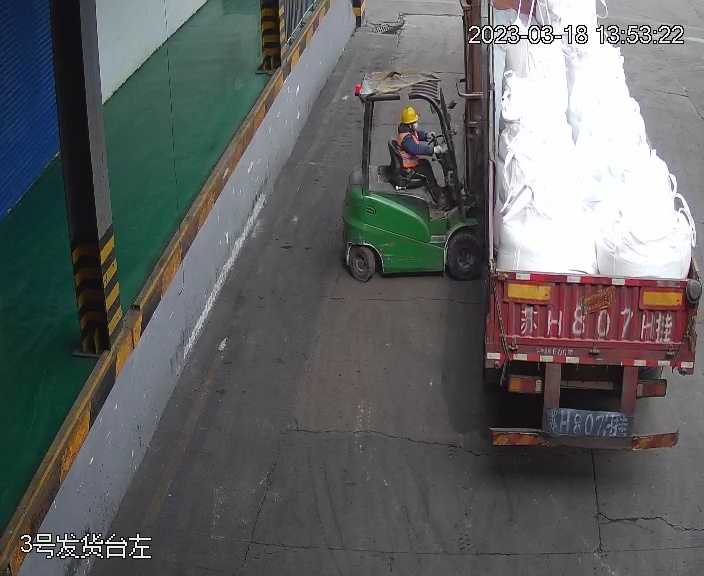head: (395, 105, 423, 148)
helmet: (400, 105, 420, 123)
people: (394, 105, 451, 204)
truck: (483, 1, 704, 446)
